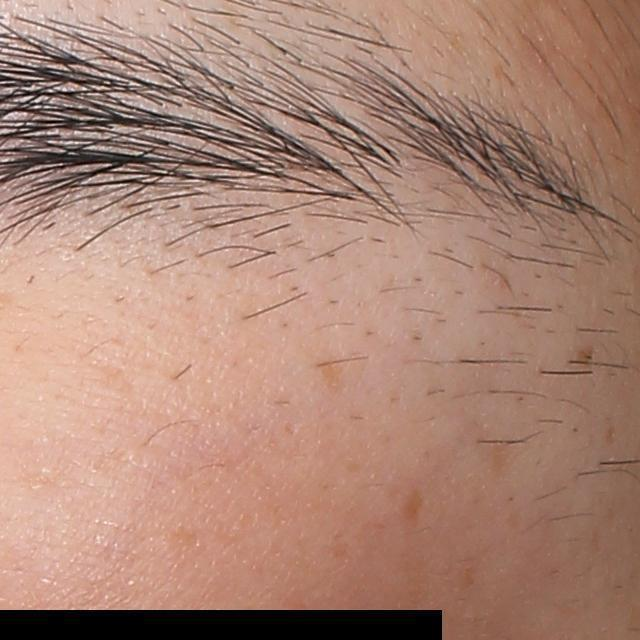melasma: (316, 354, 351, 392), (399, 483, 425, 525)
